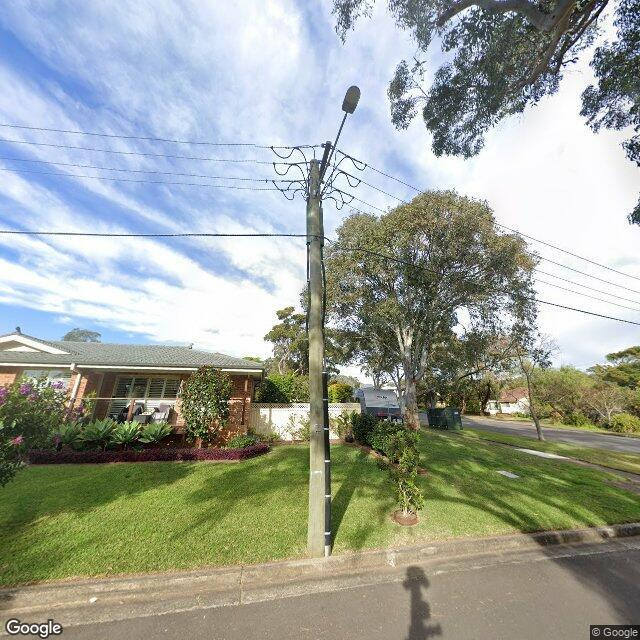crossarm: (316, 141, 333, 185)
streetlight: (319, 85, 361, 198)
timber-pole: (307, 162, 324, 553)
